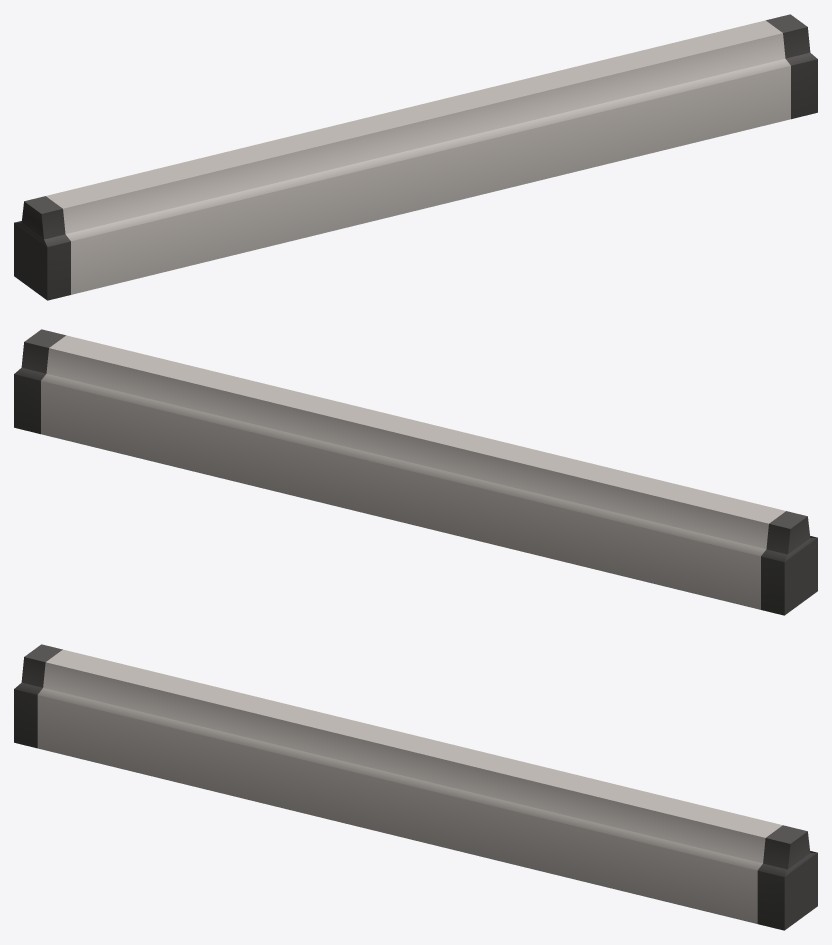
Rendered from SO_FluorescentLight.fbx.
3 views of the same model, one above another, from view 1: azimuth 30°, elevation 25°; view 2: azimuth 150°, elevation 25°; view 3: azimuth 330°, elevation 25° (orthographic).
Parts seen in each view (by area): view 1: SO_FluorescentLight; view 2: SO_FluorescentLight; view 3: SO_FluorescentLight.
Boxes of the visible parts, x1,y1,x2,y2 form: SO_FluorescentLight: (14, 14, 817, 300); SO_FluorescentLight: (14, 329, 817, 615); SO_FluorescentLight: (14, 644, 817, 930).
Bounding box in the file's own units: 3.57 × 0.3558 × 0.269.
